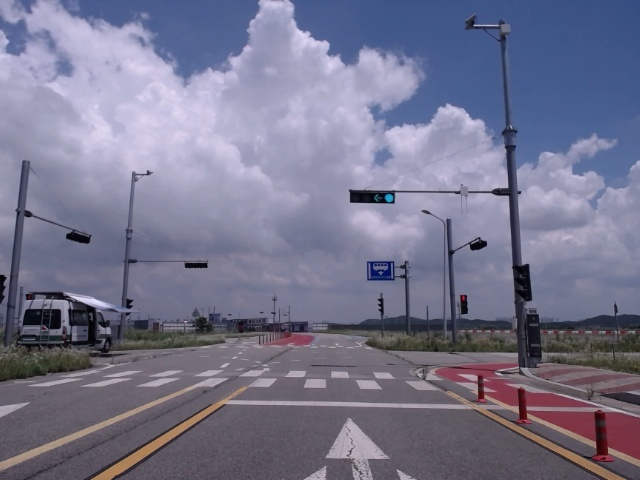all_green_4: (354, 192, 393, 203)
